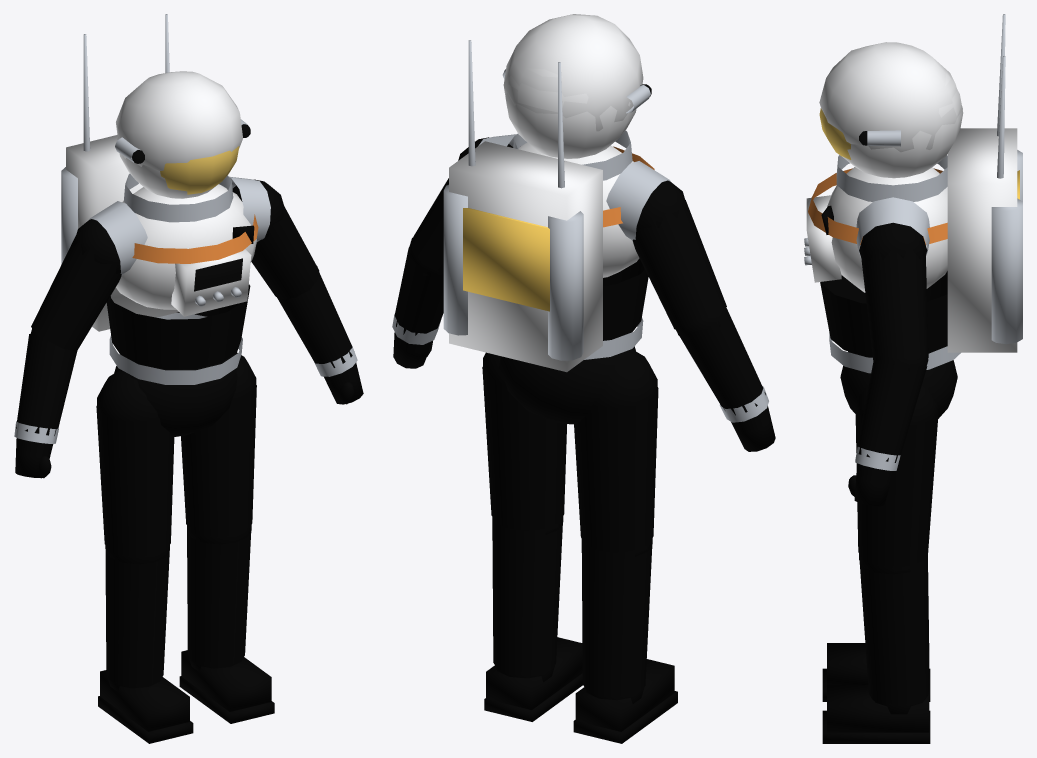
Rendered from eva_character.glb.
3 views of the same model, side by side, from view 1: azimuth 30°, elevation 25°; view 2: azimuth 150°, elevation 25°; view 3: azimuth 270°, elevation 25° (orthographic). The views are drawn at different scales.
Parts seen in each view (by area): view 1: EVA_Suit_Mesh; view 2: EVA_Suit_Mesh; view 3: EVA_Suit_Mesh.
Boxes of the visible parts, box(x1,y1,x2,y2) form: EVA_Suit_Mesh: box(14, 14, 363, 743); EVA_Suit_Mesh: box(392, 14, 775, 743); EVA_Suit_Mesh: box(804, 14, 1022, 743).
Size of the model in its own units: 1.06 by 1.88 by 0.5513.
Materials: 10 (5 with a texture image).
